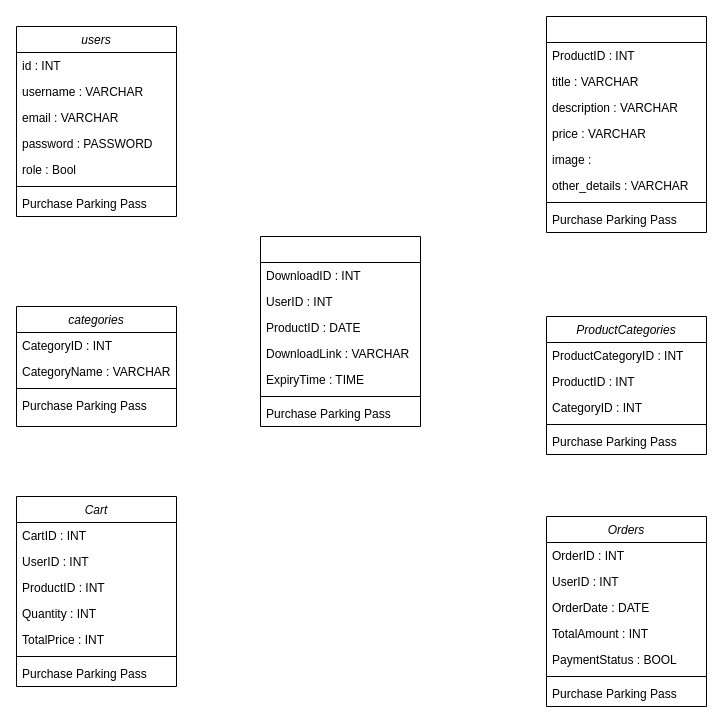
The diagram is 723 pixels wide and 723 high, and some of its shapes have lost their labels. Each missing label, with the box of its shape:
Downloads: (260, 236, 420, 426)
Products: (546, 16, 706, 232)
